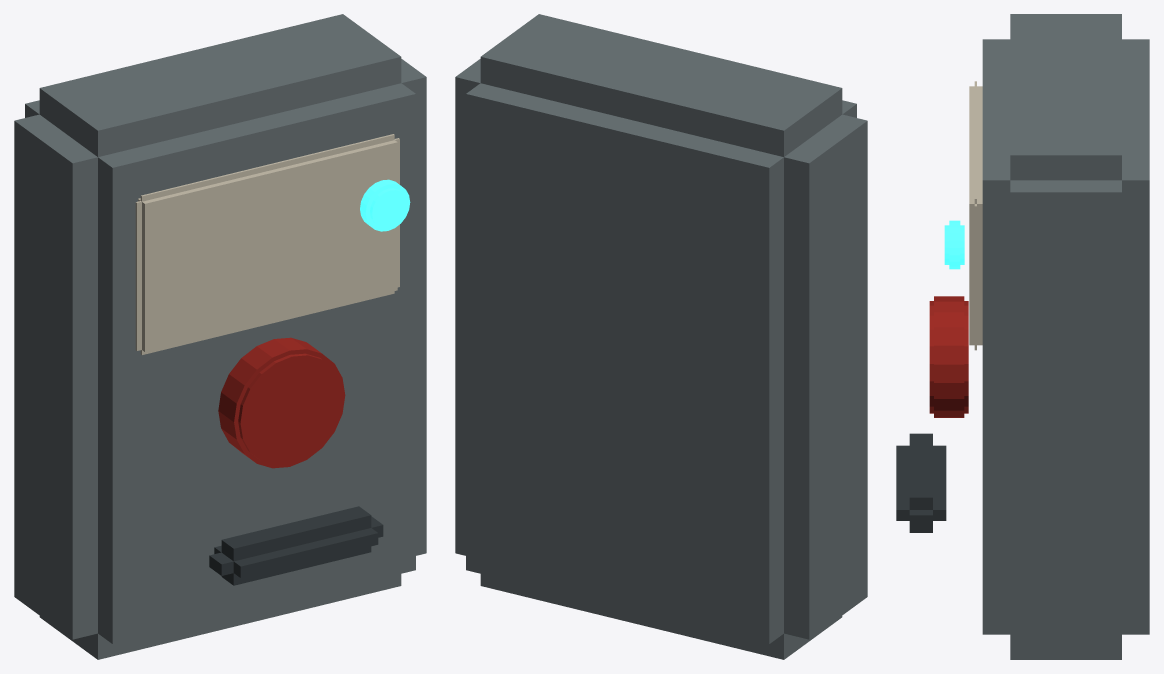
Rendered from OBJ-077_PanelEscape.fbx.
The picture shows the model from 3 angles, left to right: view 1: azimuth 30°, elevation 25°; view 2: azimuth 150°, elevation 25°; view 3: azimuth 270°, elevation 25°; orthographic projection. The views are drawn at different scales.
Parts seen in each view (by area): view 1: panel_housing, instruction_plate, release_button, pull_handle, permission_light; view 2: panel_housing; view 3: panel_housing, release_button, pull_handle, instruction_plate, permission_light.
Part boxes in pixels (x1,y1,x2,y2): panel_housing: (14, 14, 426, 659); instruction_plate: (135, 134, 399, 354); release_button: (218, 337, 345, 468); pull_handle: (209, 506, 383, 585); permission_light: (360, 179, 410, 231); panel_housing: (455, 14, 867, 659); panel_housing: (982, 14, 1149, 659); release_button: (929, 296, 968, 417); pull_handle: (896, 433, 946, 532); instruction_plate: (969, 81, 982, 350); permission_light: (944, 220, 964, 269).
Bounding box in the file's own units: 0.35 × 0.5 × 0.2275.
